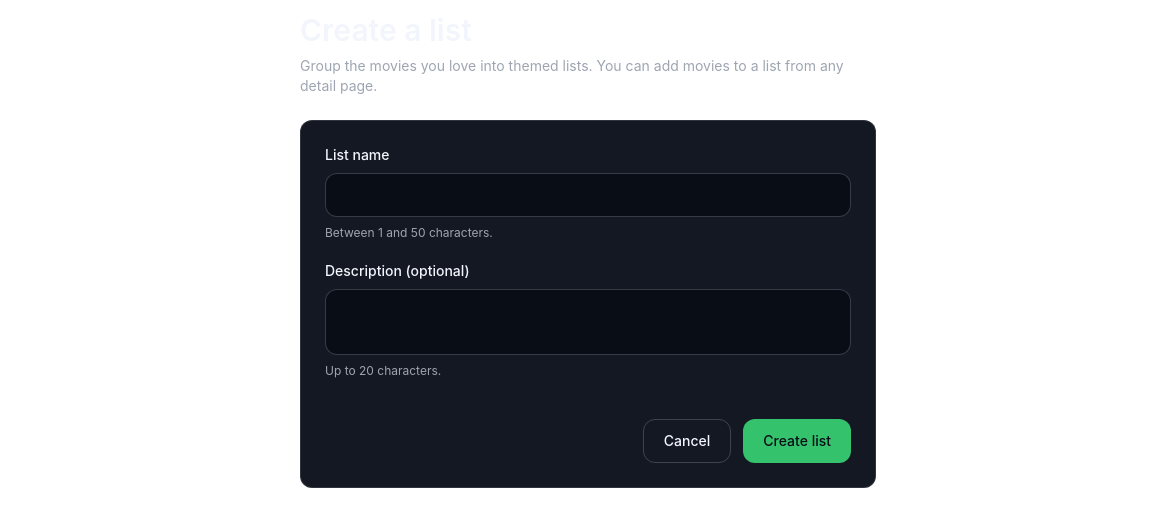
Test: ListCreatePage › navigates back to the overview when the user clicks cancel
The image size is (1164, 505).
Click the button "Cancel": coordinates (687, 441) [643,419,731,463]
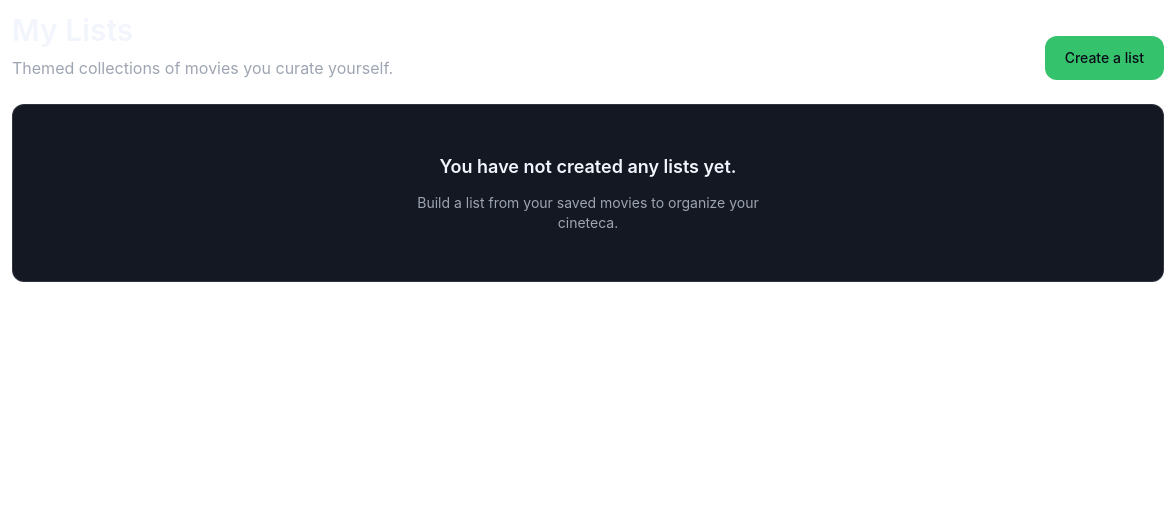
Check: the heading "You have not created any lists yet." is shown, box [440,153,736,181]
